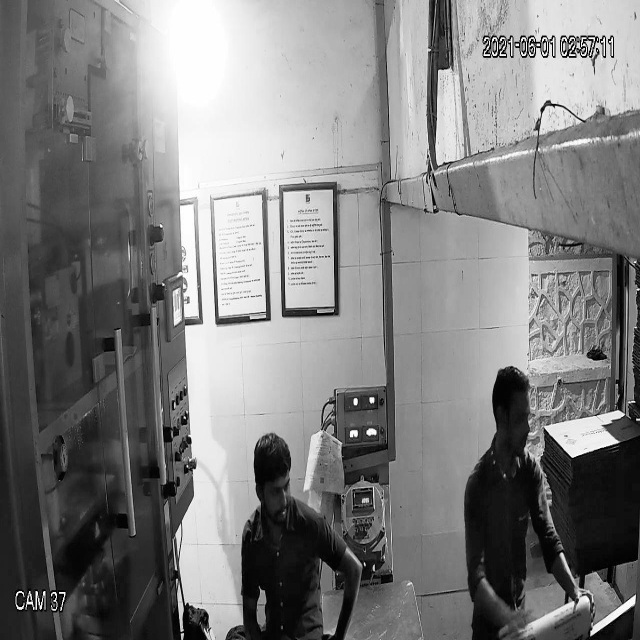Sin_gafas: (254, 470, 295, 504)
